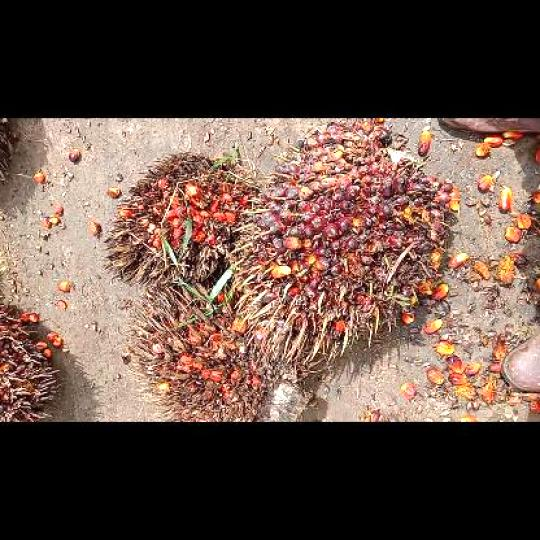masak: (226, 121, 459, 364)
terlalu masak: (120, 282, 319, 422), (102, 152, 256, 289)
